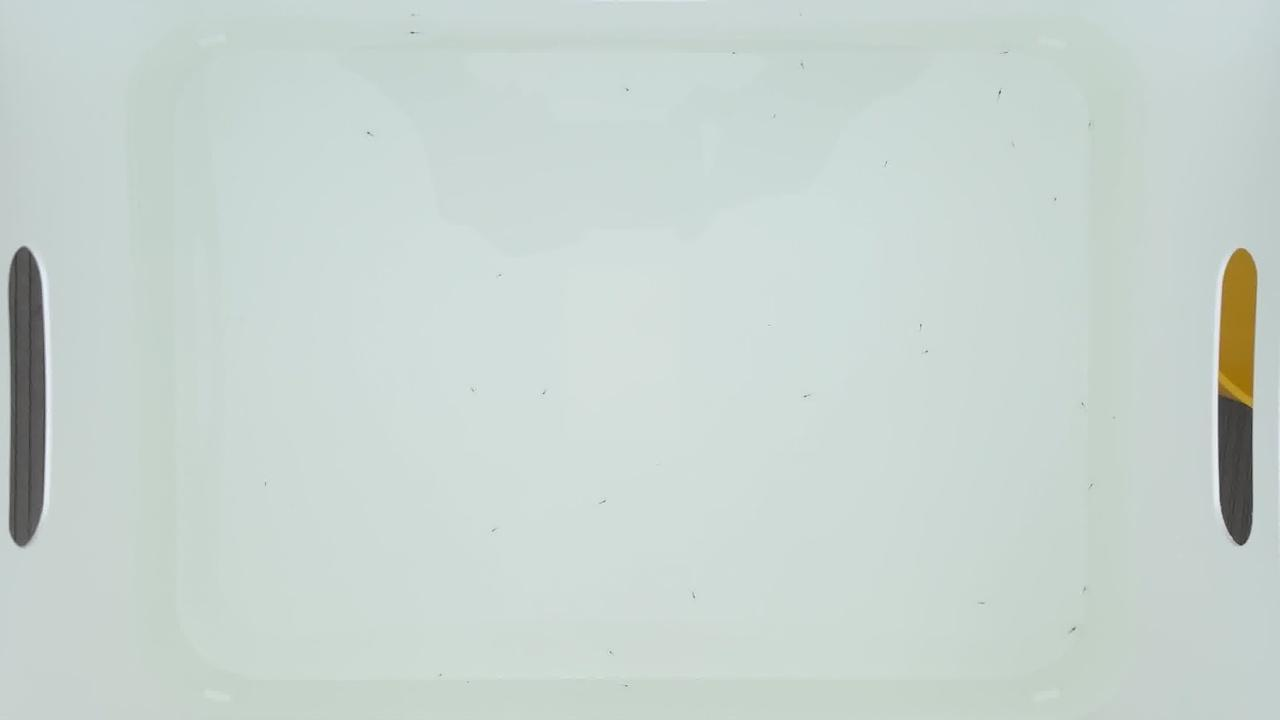shrimp: (1007, 146, 1020, 154), (434, 672, 447, 680), (994, 91, 1006, 99), (1077, 583, 1089, 591), (768, 113, 780, 121), (1000, 52, 1013, 59), (1085, 123, 1098, 130), (1107, 417, 1120, 424), (1085, 481, 1098, 488), (1069, 627, 1082, 634), (980, 602, 993, 609), (803, 389, 816, 396), (919, 345, 932, 352), (914, 320, 927, 327), (883, 155, 896, 162), (798, 60, 811, 67), (732, 46, 745, 53), (624, 83, 637, 90), (409, 26, 422, 33), (363, 131, 376, 138), (497, 272, 510, 279), (467, 384, 480, 391), (538, 389, 551, 396), (596, 496, 609, 503), (605, 650, 618, 657), (617, 680, 630, 687), (489, 529, 502, 536), (260, 475, 273, 482), (1050, 195, 1062, 202), (1077, 399, 1089, 406), (690, 594, 702, 601)
